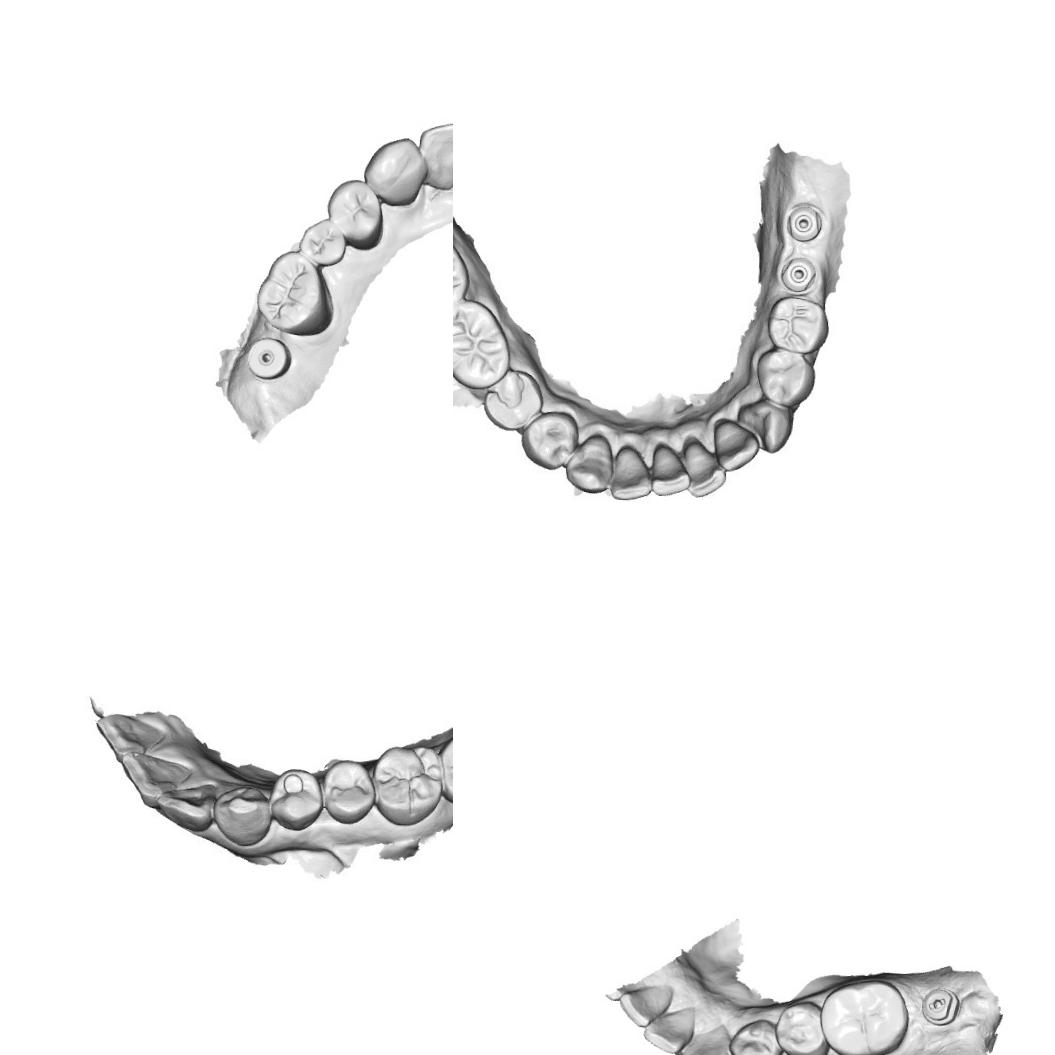canine: (360, 134, 424, 208), (732, 396, 795, 452), (562, 426, 612, 495), (213, 783, 268, 845), (676, 1021, 733, 1055)
implant: (244, 334, 293, 382), (774, 252, 816, 293), (782, 203, 820, 246)
implant_minus: (917, 983, 959, 1027)
incisor: (93, 705, 163, 758), (125, 748, 192, 803), (616, 980, 676, 1030), (712, 418, 761, 478), (640, 1005, 698, 1055), (414, 118, 453, 192), (680, 437, 725, 498), (607, 443, 649, 506), (160, 780, 216, 826), (648, 442, 688, 500)
molar: (252, 246, 338, 338), (815, 975, 911, 1055), (370, 742, 444, 826), (453, 298, 513, 392), (453, 221, 472, 322), (439, 731, 453, 806)
premolar: (323, 174, 388, 250), (764, 294, 835, 358), (481, 370, 542, 430), (755, 346, 814, 408), (274, 766, 328, 831), (772, 996, 829, 1055), (523, 412, 574, 471), (324, 760, 375, 818), (296, 215, 350, 269), (725, 1014, 782, 1055)
